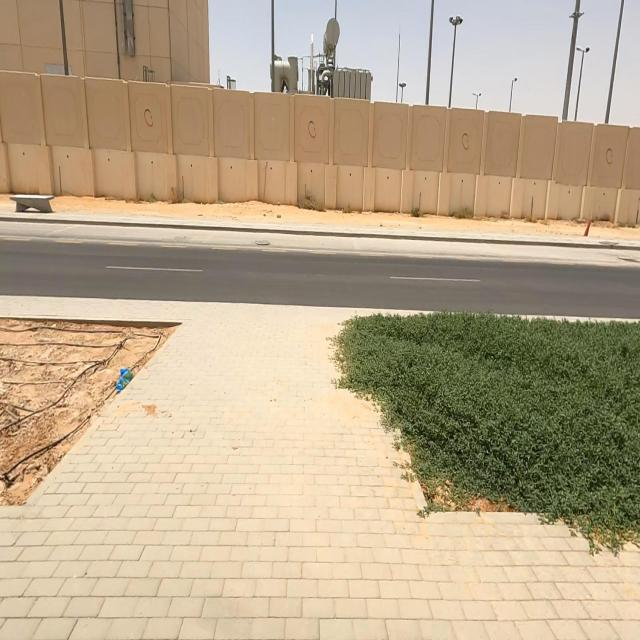Graffiti: (462, 132, 471, 155), (308, 121, 318, 139), (145, 110, 154, 129), (606, 149, 615, 167)
